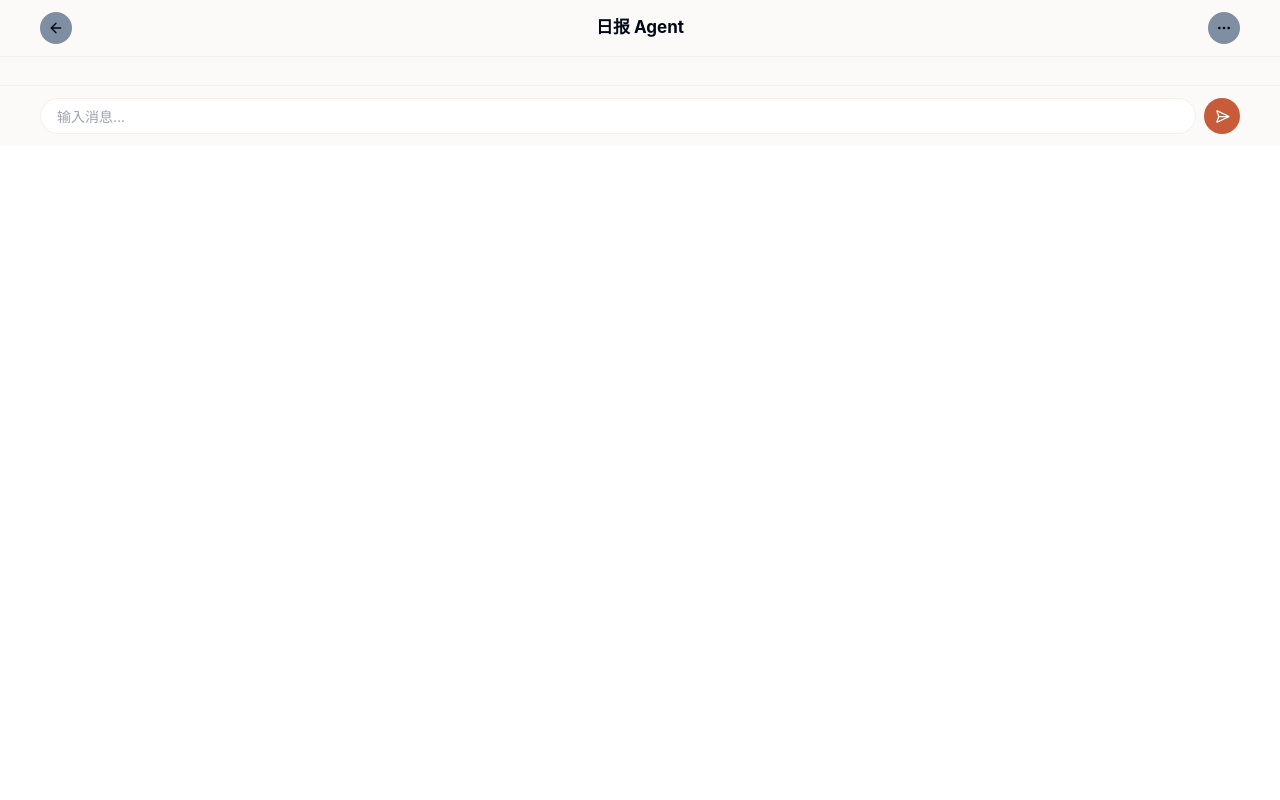
Test case: agent conversation runtime issue-385（运行时对话页 typed event 渲染） › renders typed runtime events and reuses session id（渲染 typed 事件并复用 sessionId）
Check: the element with test id "agent-conversation-page" is shown, box [0,0,1279,146]
Type "第一条消息" into the field with test id "agent-chat-input" at [618, 116], box [40,98,1196,134]
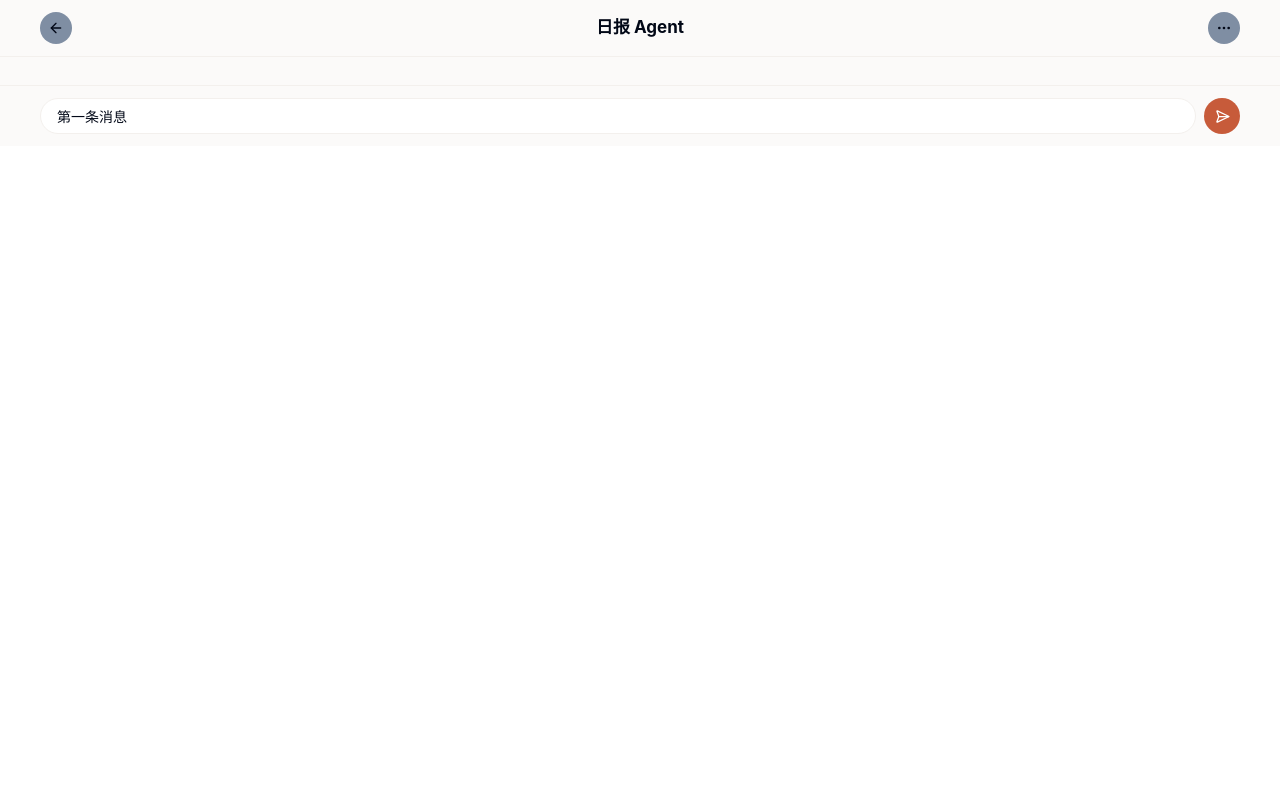
Click the button with test id "agent-chat-send-button" at [1222, 116], box [1204,98,1240,134]
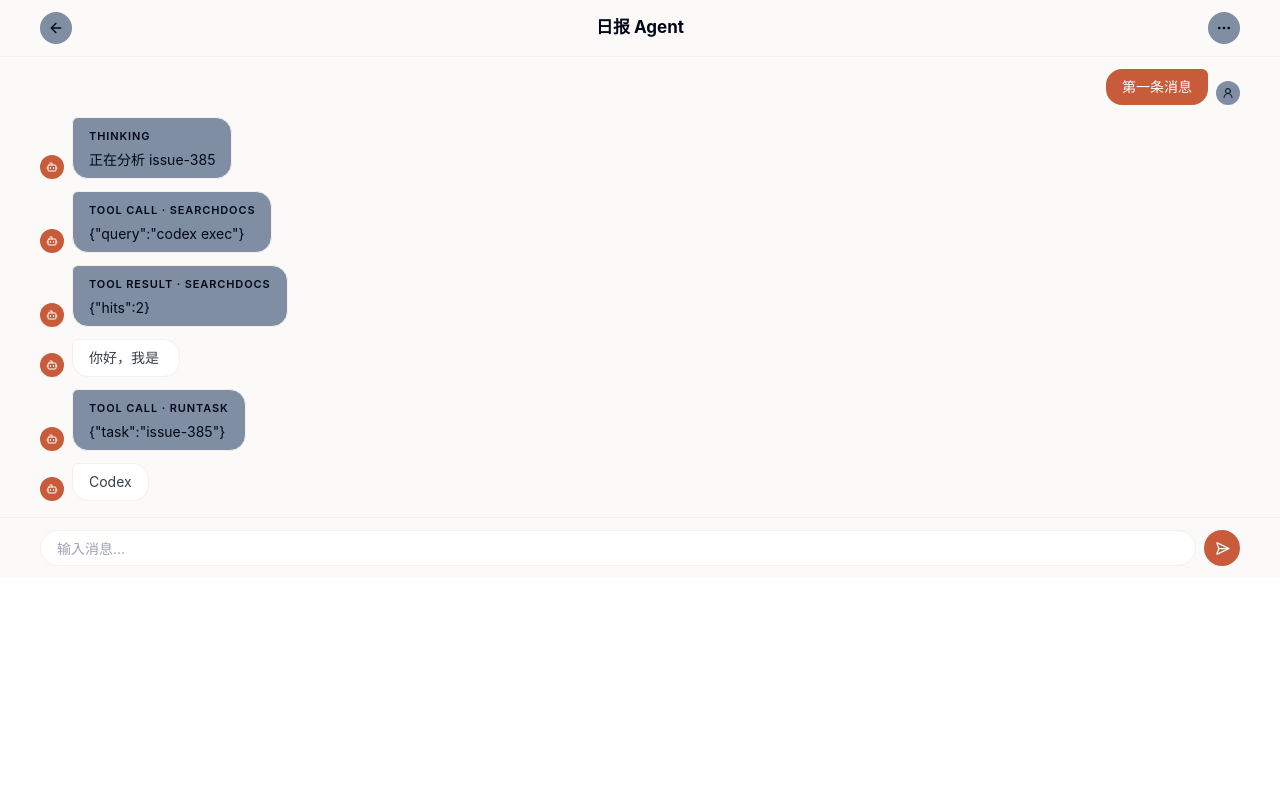
Check: the element with test id "agent-runtime-event-thinking" shows "正在分析 issue-385", box [89,151,216,168]
Check: the element with test id "agent-runtime-event-tool-result" shows "\"hits\":2", box [89,299,150,316]
Check: the number of elements with test id "agent-runtime-event-tool-call" is 2, box [72,191,272,253]; [72,389,246,451]
Type "第二条消息" into the field with test id "agent-chat-input" at [618, 548], box [40,530,1196,566]
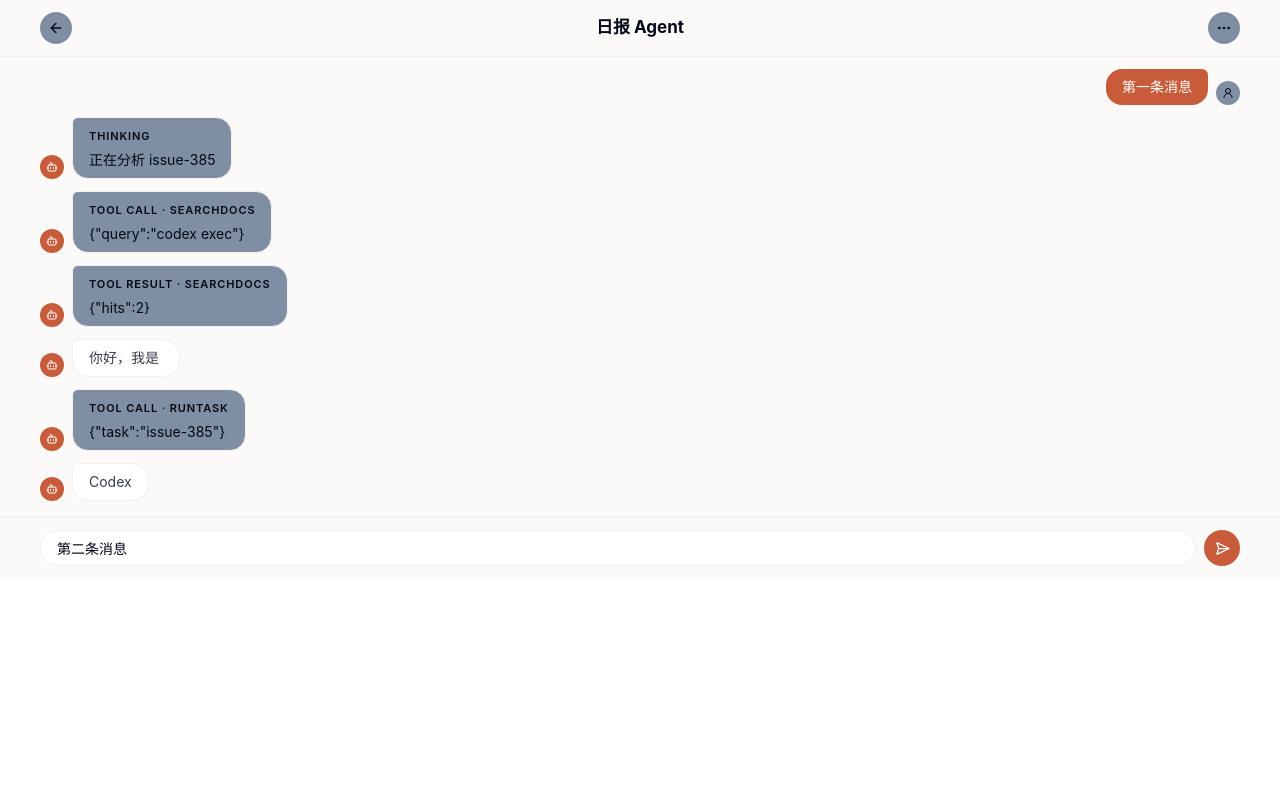
Click the button with test id "agent-chat-send-button" at [1222, 548], box [1204,530,1240,566]
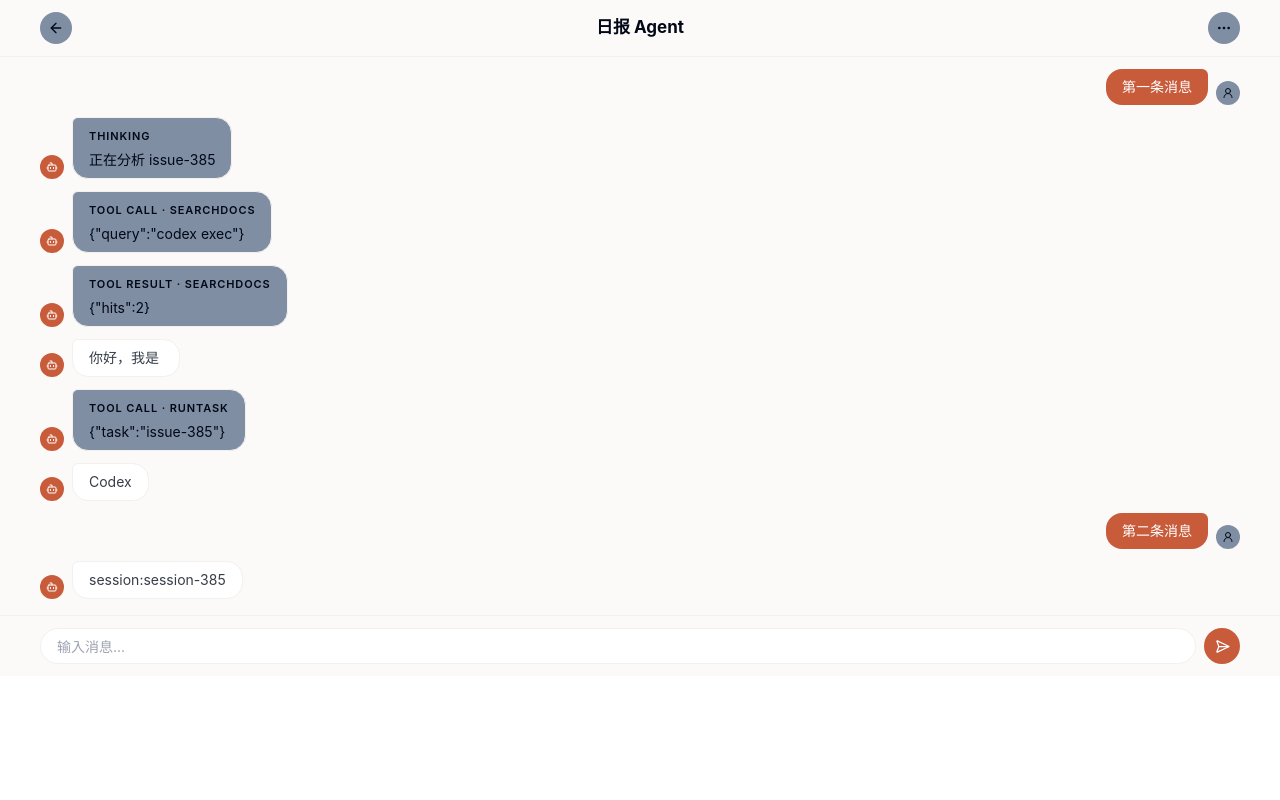
Check: the element with test id "agent-runtime-event-output" reads "session:session-385", box [89,571,226,588]
